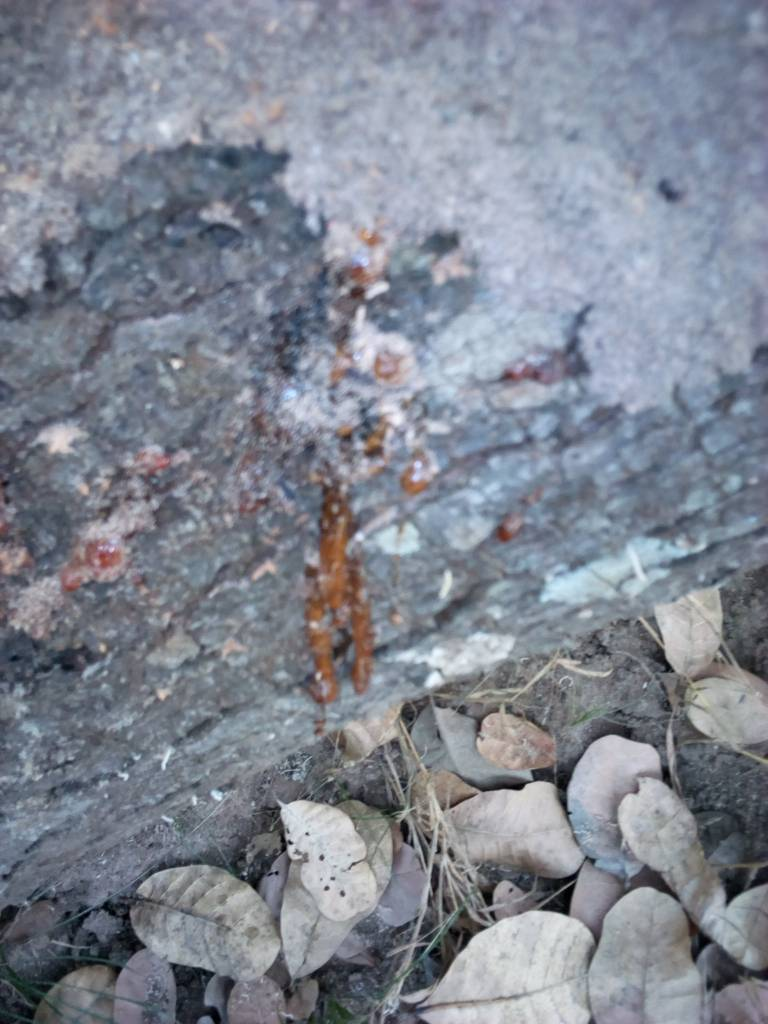Mecocorynus longiceps: (269, 219, 547, 546), (244, 460, 444, 726)
